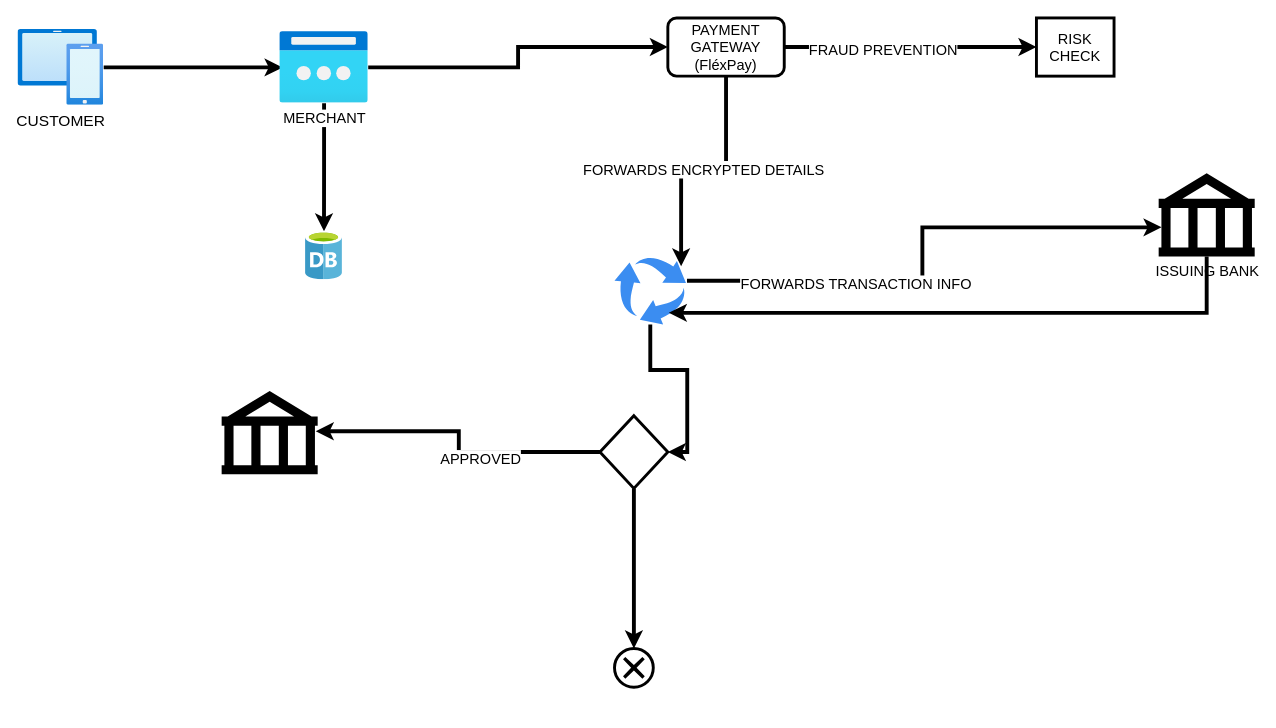
Image size: 1276x728. Some labels were removed from this diagram. Here are the shapes that lost their labels. From the top down, the centre of each, then its label:
point 649,290: PAYMENT PROCESSOR (TIPS)
point 269,432: ACQUIRING BANK
point 633,667: DECLINED
